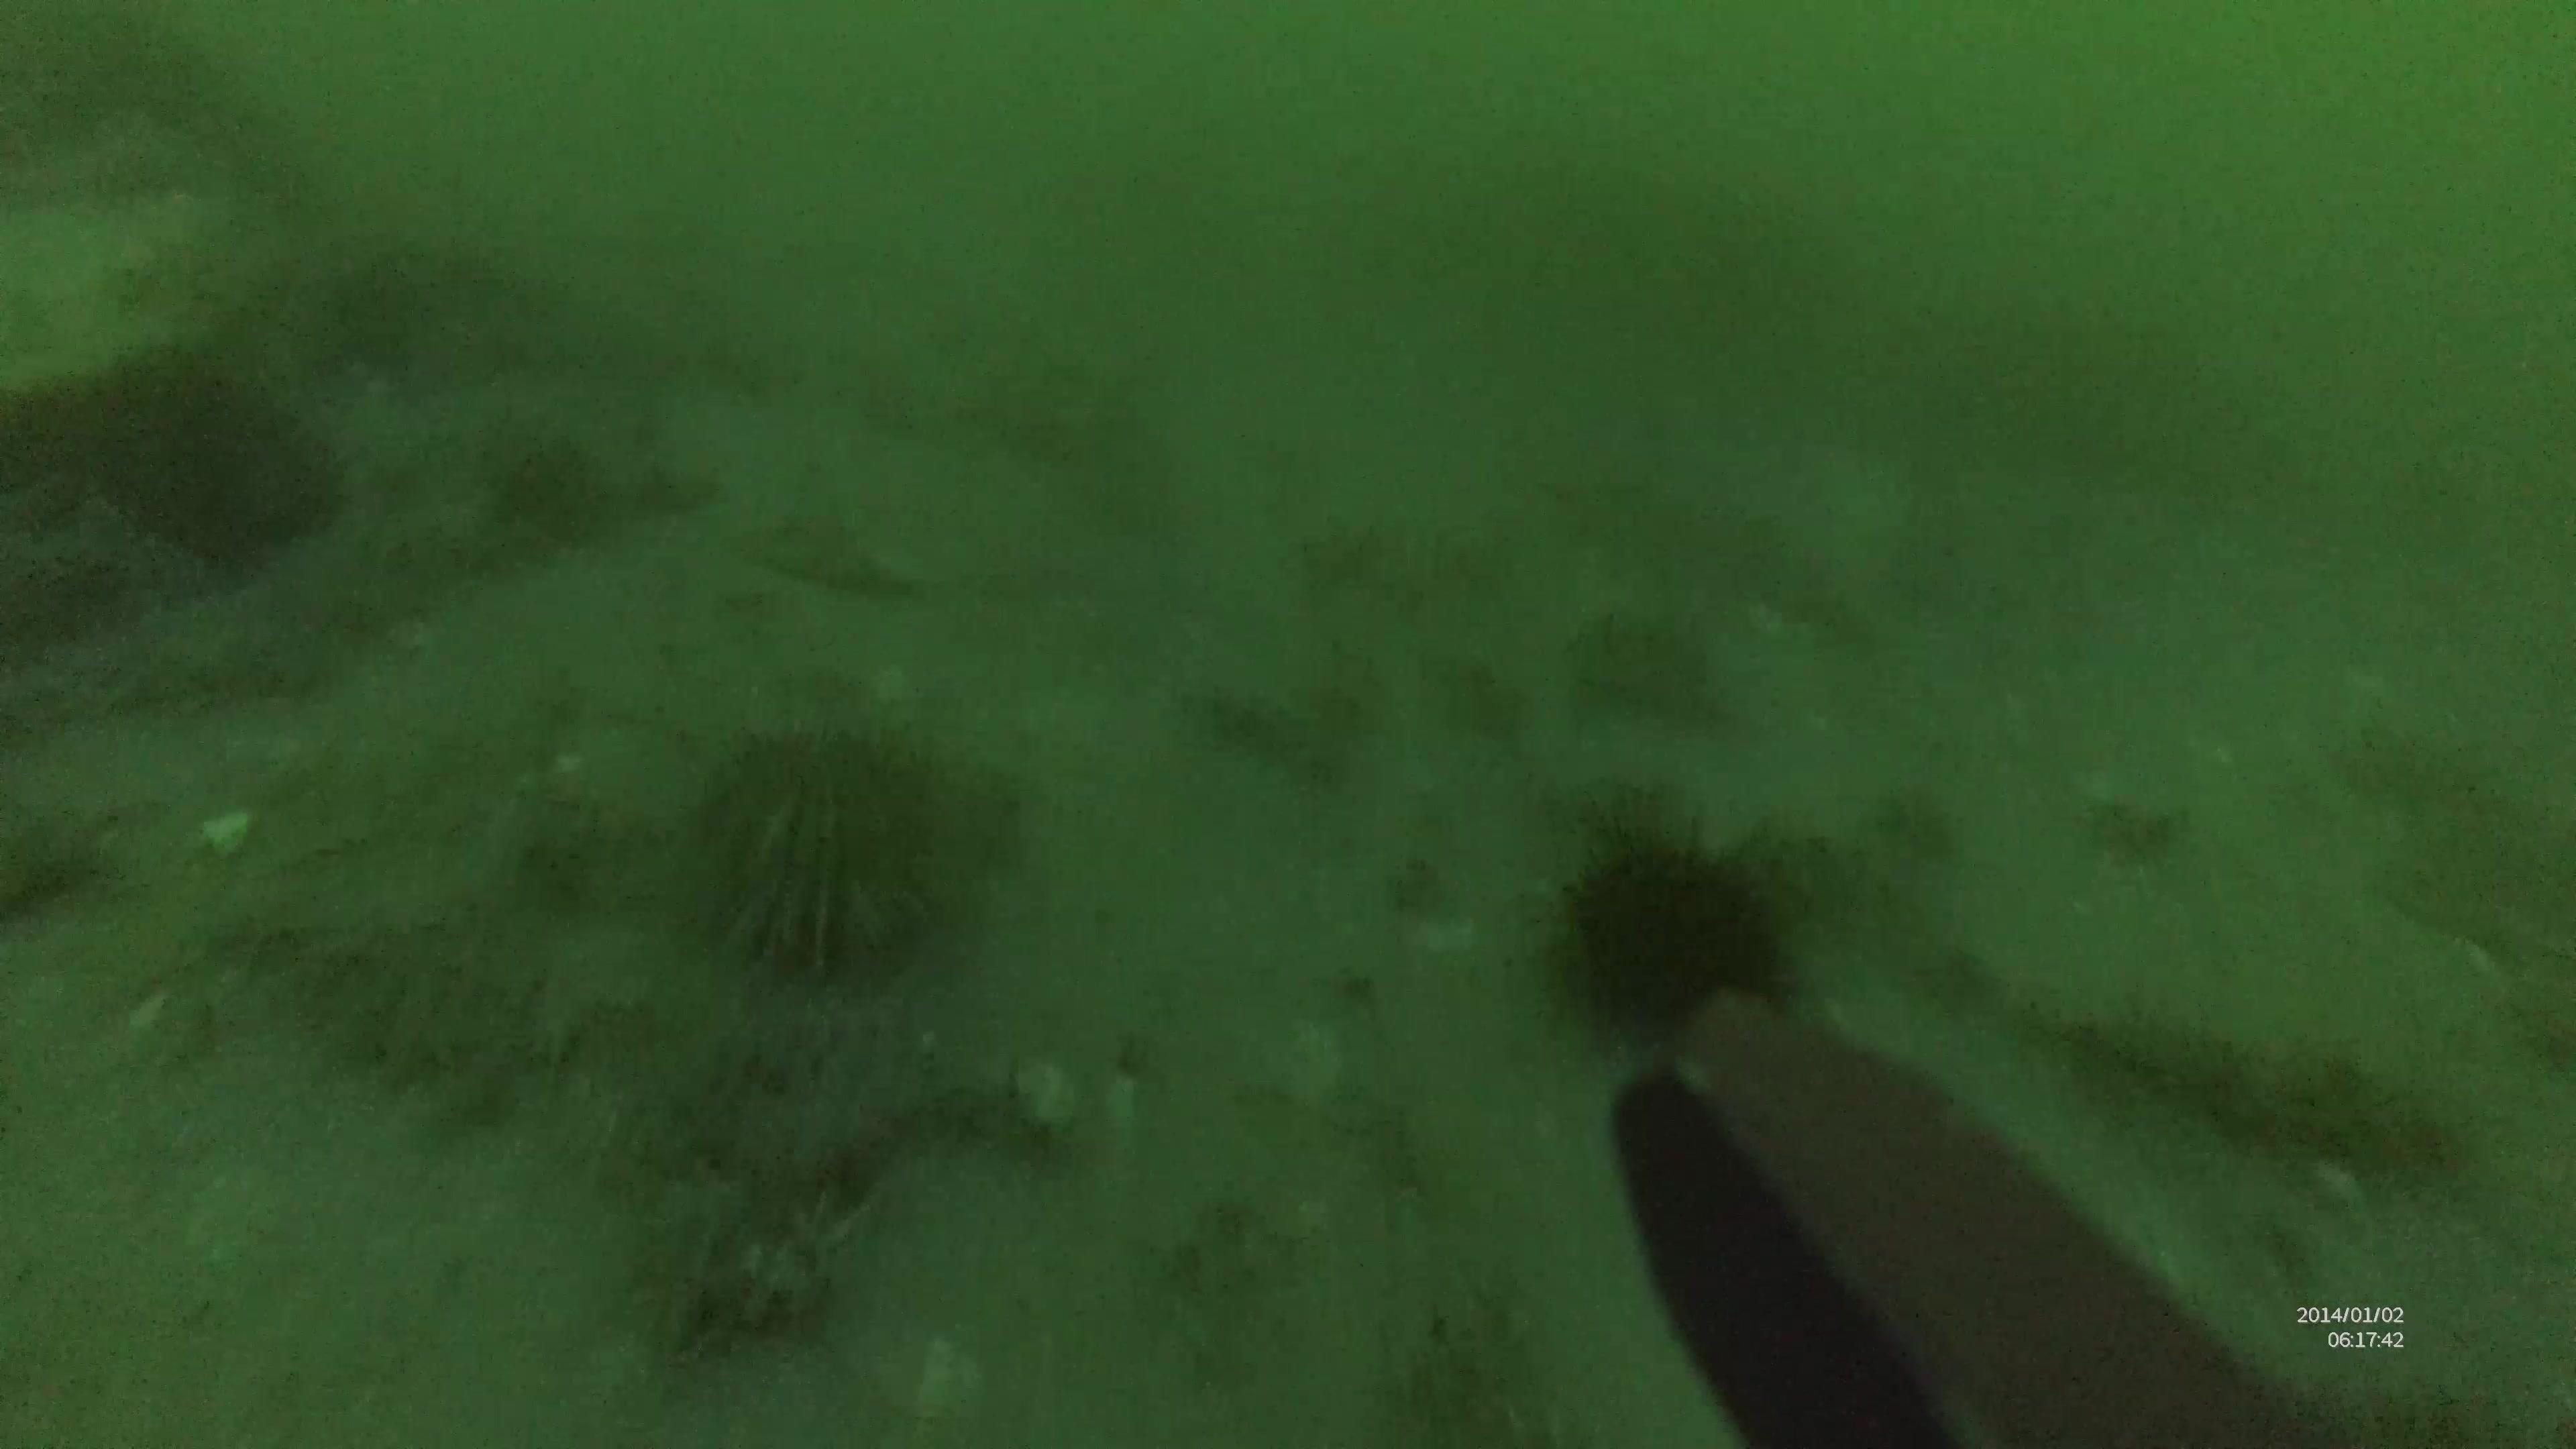echinus: (1552, 824, 1821, 1053)
